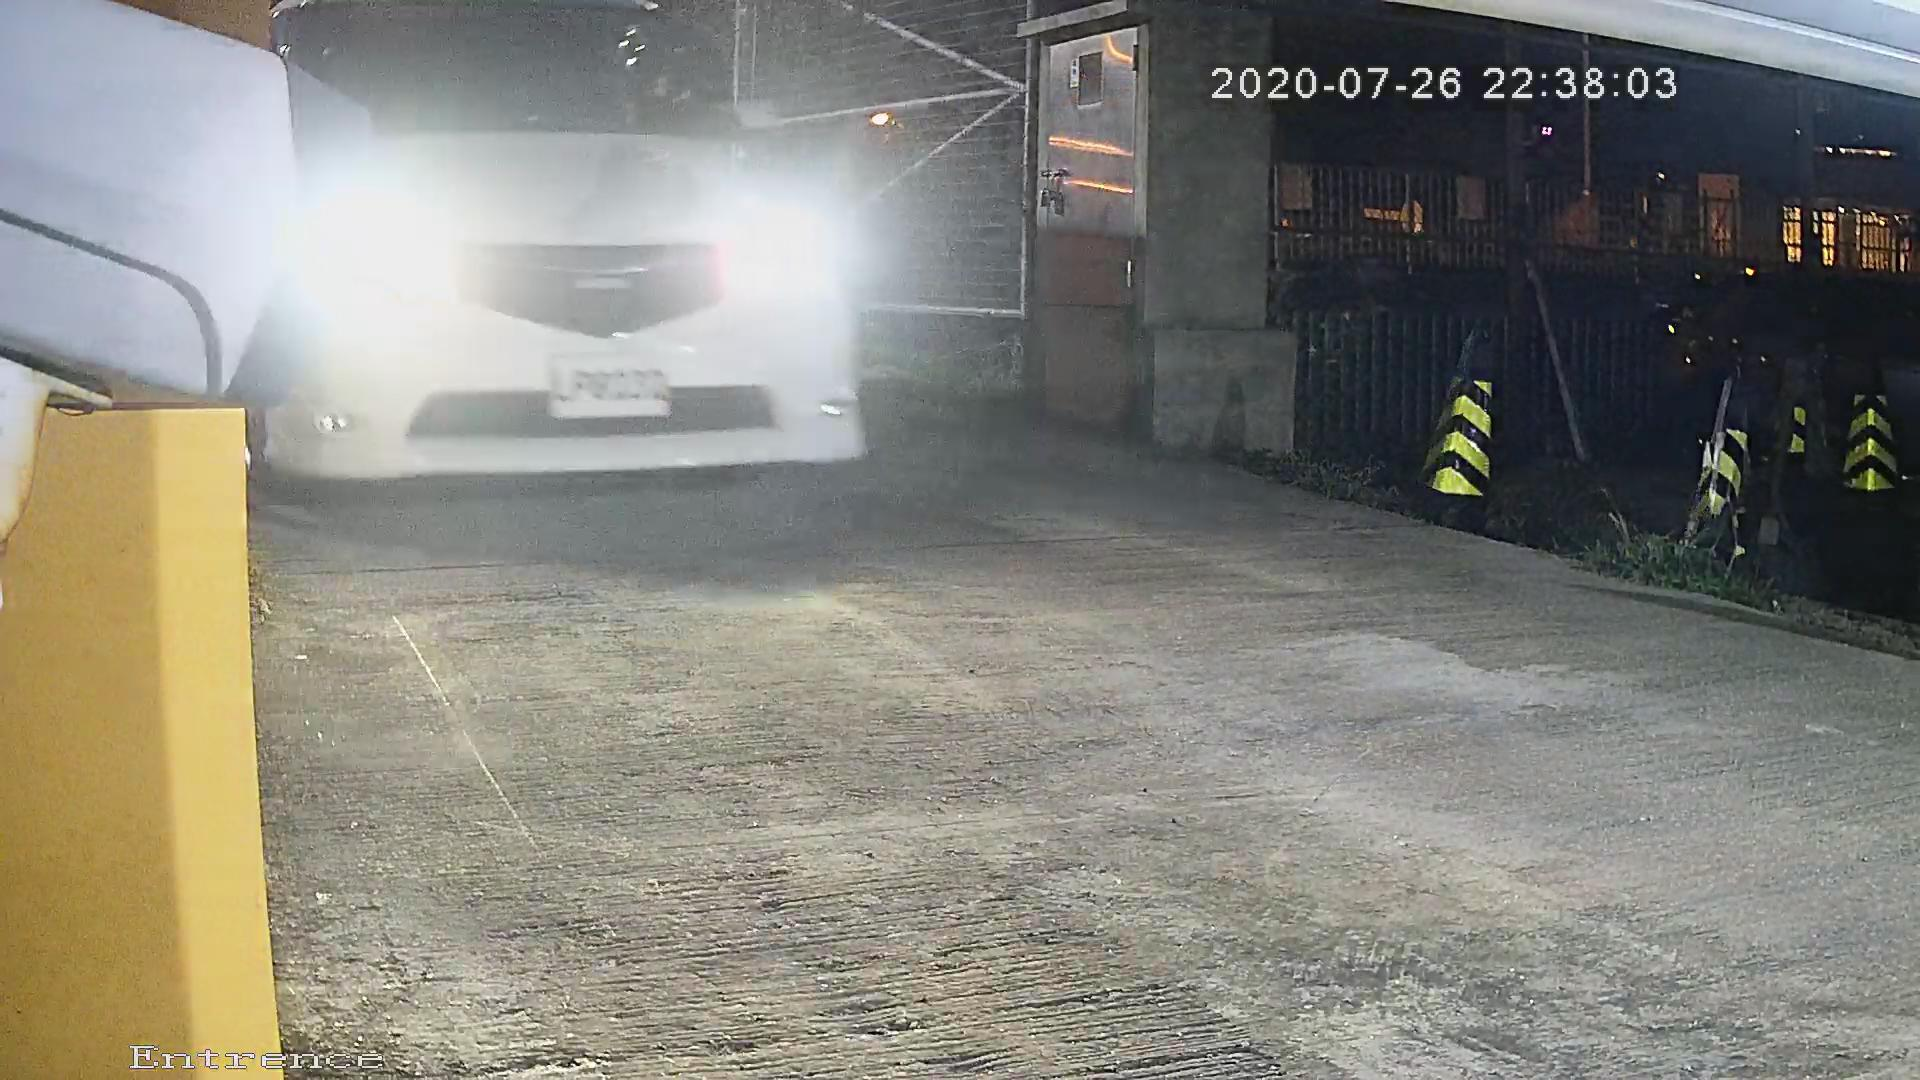License Plate: (506, 309, 703, 439)
